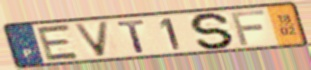1: (158, 17, 182, 51)
E: (35, 23, 83, 62)
F: (228, 8, 268, 46)
S: (189, 11, 237, 50)
T: (116, 19, 149, 54)
V: (71, 20, 112, 58)
